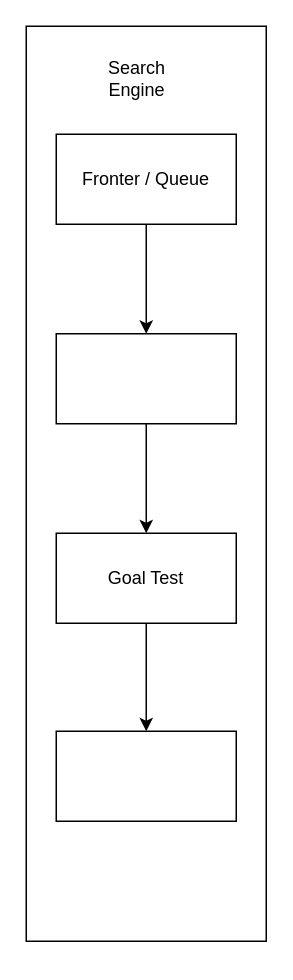
The diagram is 293 pixels wide and 980 high, and some of its shapes have lost their labels. The centre of each missing label's shape, as x and y in pixels:
Path Reconstructor: the point at 145,775
Visited Check: the point at 145,378
